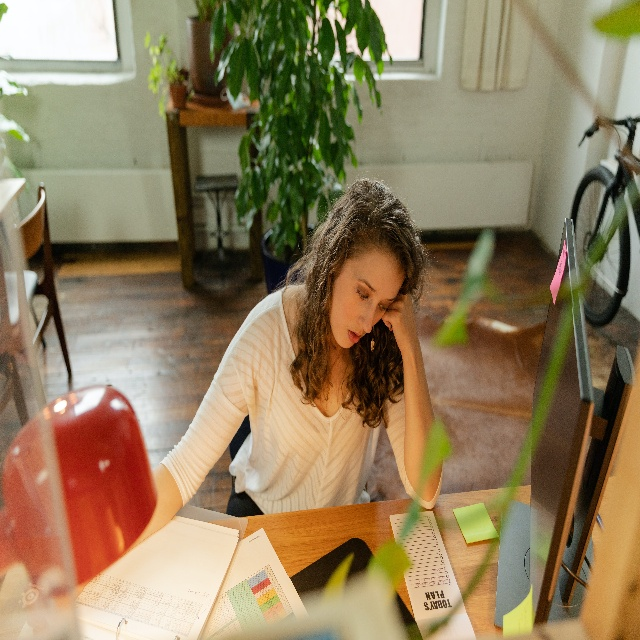Sin_guantes: (388, 297, 424, 353)
